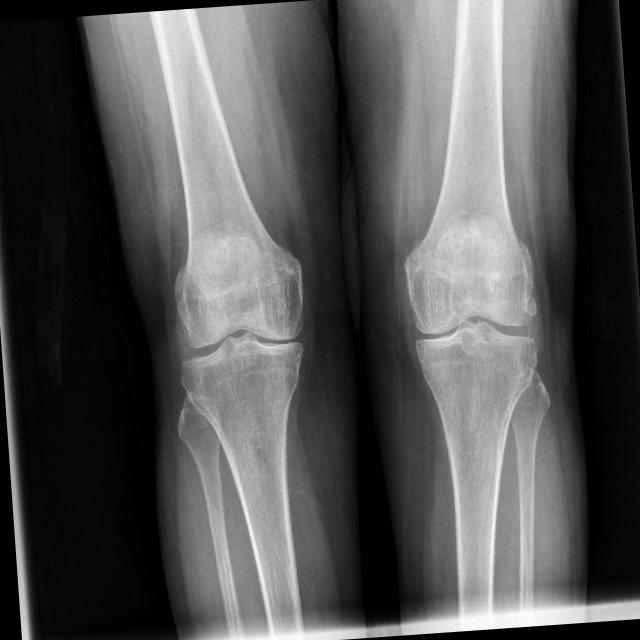Knee: (401, 260, 543, 392), (168, 282, 310, 407)
